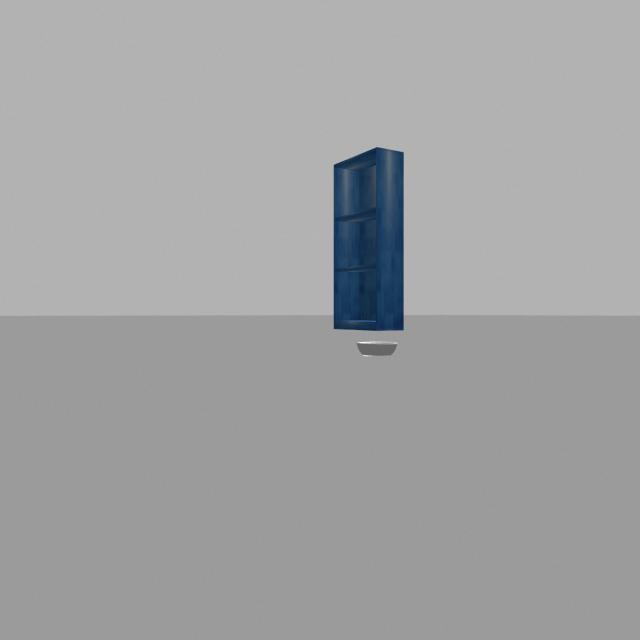bowl: (354, 341, 406, 358)
shelf: (321, 137, 419, 333)
